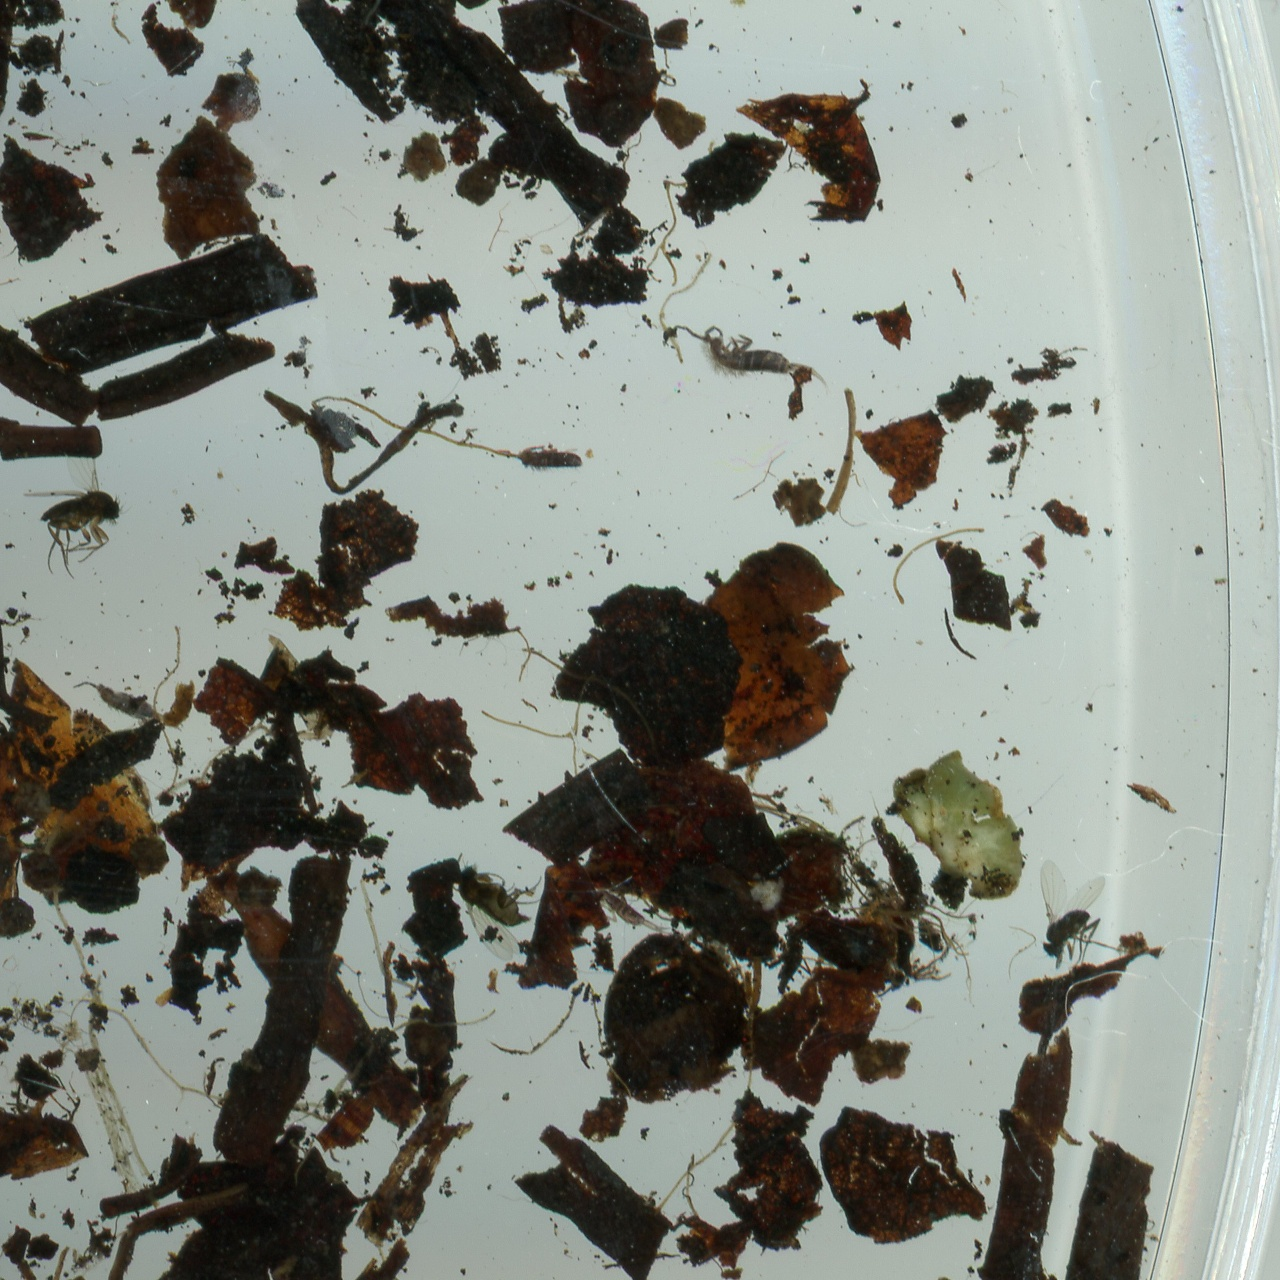arthropod: (21, 456, 123, 579), (666, 324, 836, 388), (1040, 858, 1117, 971), (459, 846, 533, 962), (73, 679, 164, 724), (591, 887, 667, 932), (515, 447, 584, 474)
